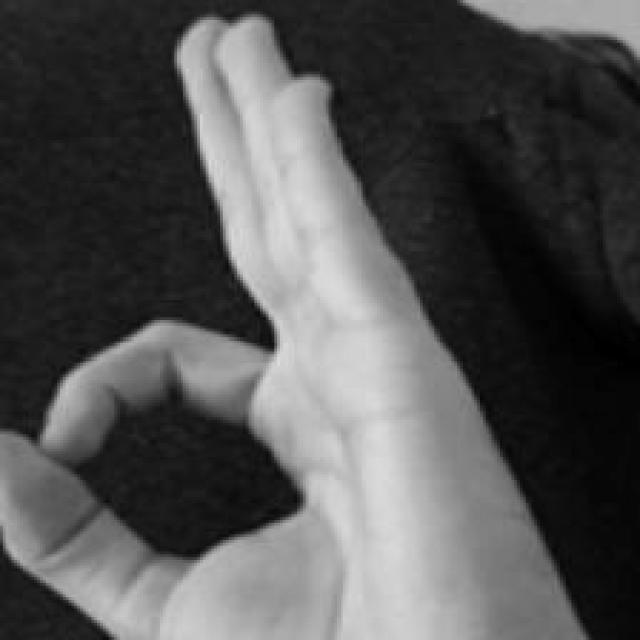O: (2, 10, 589, 640)
